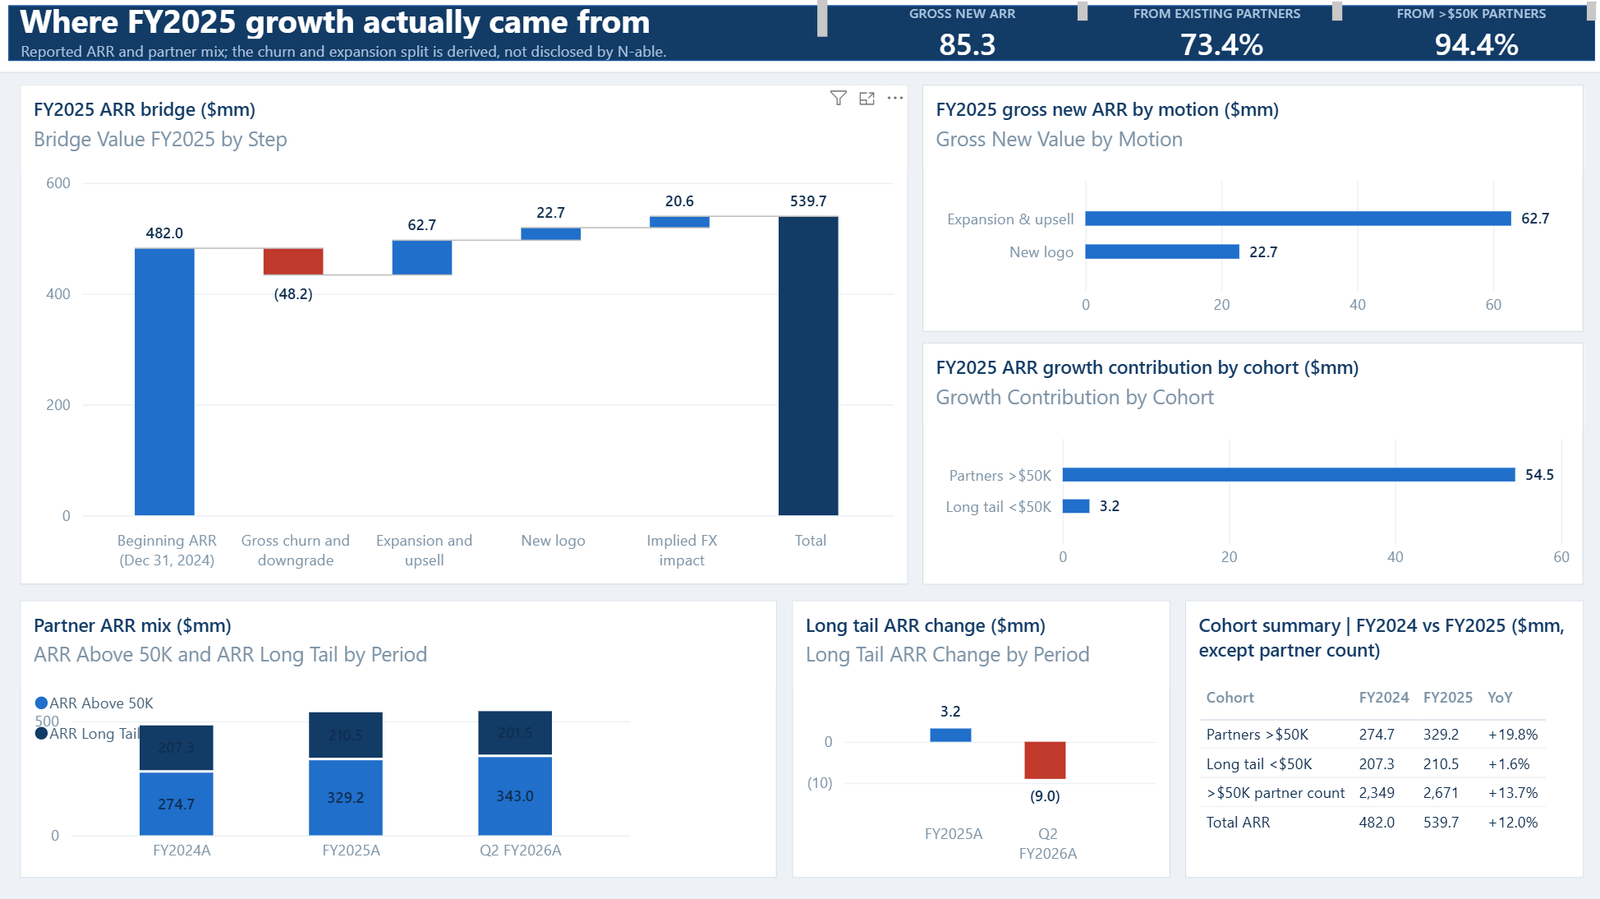

This screenshot's page, from the dashboard's own definition file:
{"tool":"powerbi","page":{"name":"ARR Growth & Partner Mix","canvas":[1280,720],"ordinal":1},"visuals":[{"type":"shape","box":[0,0,1280,62],"z":0},{"type":"textbox","box":[20,3,640,32],"z":1000},{"type":"textbox","box":[21,37,640,20],"z":2000},{"type":"card","fields":{"Values":["_Measures.Gross New ARR FY2025"]},"box":[676,22,190,36],"z":3000},{"type":"card","fields":{"Values":["_Measures.Expansion Share of Gross New"]},"box":[878,22,190,36],"z":4000},{"type":"card","fields":{"Values":["_Measures.Growth Share Above 50K"]},"box":[1080,22,190,36],"z":5000},{"type":"waterfallChart","title":"FY2025 ARR bridge  ($mm)","fields":{"Category":["ARR Bridge FY2025.Step"],"Y":["_Measures.Bridge Value FY2025"]},"box":[20,72,704,396],"z":6000},{"type":"clusteredBarChart","title":"FY2025 gross new ARR by motion  ($mm)","fields":{"Category":["Gross New Split.Motion"],"Y":["_Measures.Gross New Value"]},"box":[736,72,524,196],"z":7000},{"type":"clusteredBarChart","title":"FY2025 ARR growth contribution by cohort  ($mm)","fields":{"Category":["Growth by Tier.Cohort"],"Y":["_Measures.Growth Contribution"]},"box":[736,276,524,192],"z":8000},{"type":"columnChart","title":"Partner ARR mix  ($mm)","fields":{"Category":["Partner Mix.Period"],"Y":["_Measures.ARR Above 50K","_Measures.ARR Long Tail"]},"box":[20,480,600,220],"z":9000},{"type":"clusteredColumnChart","title":"Long tail ARR change  ($mm)","fields":{"Category":["Long Tail Change.Period"],"Y":["_Measures.Long Tail ARR Change"]},"box":[632,480,300,220],"z":10000},{"type":"tableEx","title":"Cohort summary  |  FY2024 vs FY2025  ($mm, except partner count)","fields":{"Values":["Cohort Summary.Cohort","Cohort Summary.FY2024","Cohort Summary.FY2025","Cohort Summary.YoY"]},"box":[944,480,316,220],"z":11000},{"type":"textbox","box":[878,6,190,15],"z":12000},{"type":"textbox","box":[1080,6,190,15],"z":13000},{"type":"textbox","box":[676,6,190,15],"z":14000}]}

Visuals, with their boxes in screenshot pixels (x1, y1, x2, y2), scaled from the page's 1280x720 canvas onto the 1600x899 screenshot:
shape: box=[0, 0, 1599, 77]
textbox: box=[25, 4, 825, 44]
textbox: box=[26, 46, 826, 71]
card - _Measures.Gross New ARR FY2025: box=[845, 27, 1082, 72]
card - _Measures.Expansion Share of Gross New: box=[1098, 27, 1335, 72]
card - _Measures.Growth Share Above 50K: box=[1350, 27, 1588, 72]
"FY2025 ARR bridge  ($mm)" waterfallChart: box=[25, 90, 905, 584]
"FY2025 gross new ARR by motion  ($mm)" clusteredBarChart: box=[920, 90, 1575, 335]
"FY2025 ARR growth contribution by cohort  ($mm)" clusteredBarChart: box=[920, 345, 1575, 584]
"Partner ARR mix  ($mm)" columnChart: box=[25, 599, 775, 874]
"Long tail ARR change  ($mm)" clusteredColumnChart: box=[790, 599, 1165, 874]
"Cohort summary  |  FY2024 vs FY2025  ($mm, except partner count)" tableEx: box=[1180, 599, 1575, 874]
textbox: box=[1098, 7, 1335, 26]
textbox: box=[1350, 7, 1588, 26]
textbox: box=[845, 7, 1082, 26]
